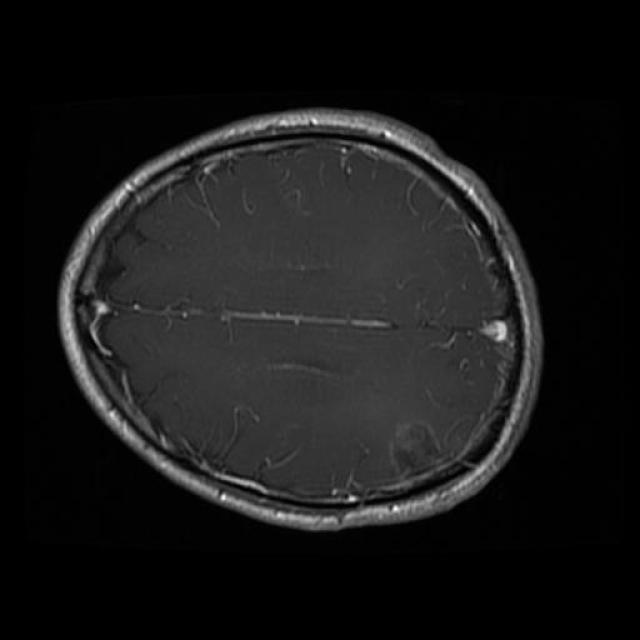Glioma: (389, 422, 442, 476)
